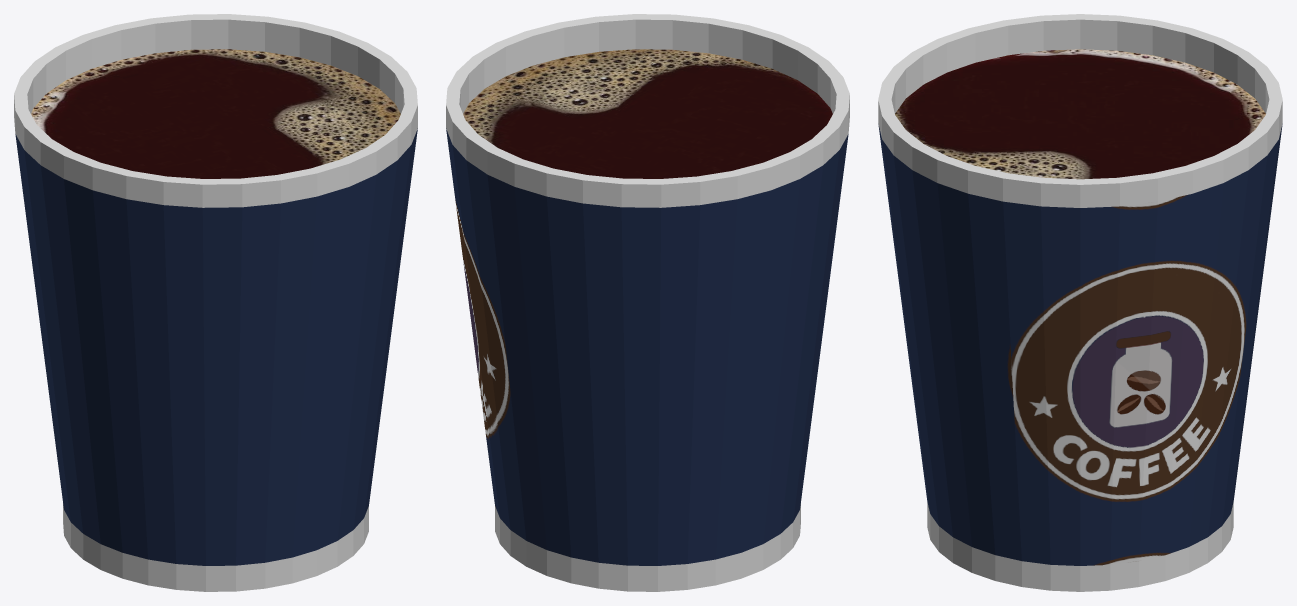
Rendered from cupOfCoffee.fbx.
3 views of the same model, side by side, from view 1: azimuth 30°, elevation 25°; view 2: azimuth 150°, elevation 25°; view 3: azimuth 270°, elevation 25° (orthographic).
Parts seen in each view (by area): view 1: Cylinder; view 2: Cylinder; view 3: Cylinder.
Part boxes in pixels (x1,y1,x2,y2): Cylinder: (14,14,417,591); Cylinder: (446,14,849,591); Cylinder: (878,14,1282,591).
Bounding box in the file's own units: 264 × 308 × 264.
